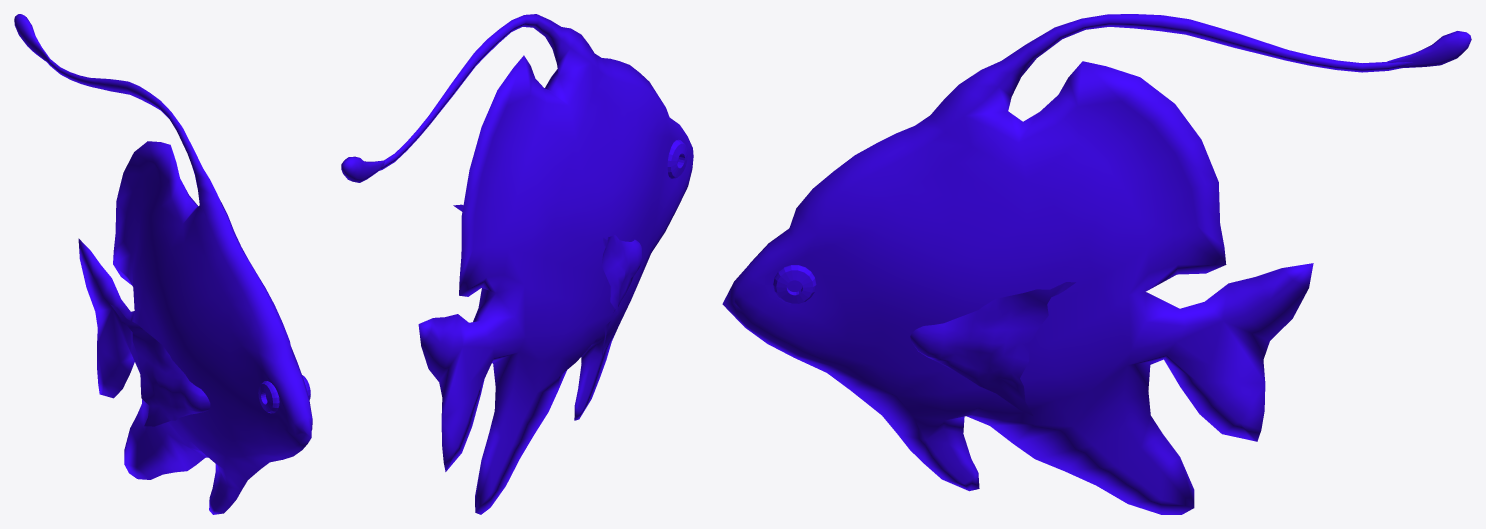
File: Fish Done.fbx
3 renders of one model, left to right at view 1: azimuth 30°, elevation 25°; view 2: azimuth 150°, elevation 25°; view 3: azimuth 270°, elevation 25°, orthographic. The views are drawn at different scales.
Parts seen in each view (by area): view 1: Body_low; view 2: Body_low; view 3: Body_low.
Boxes of the visible parts, x1=… form: Body_low: x1=14, y1=14, x2=312, y2=514; Body_low: x1=341, y1=14, x2=693, y2=514; Body_low: x1=722, y1=14, x2=1471, y2=514.
Bounding box in the file's own units: 5.36 × 16.06 × 21.69.
